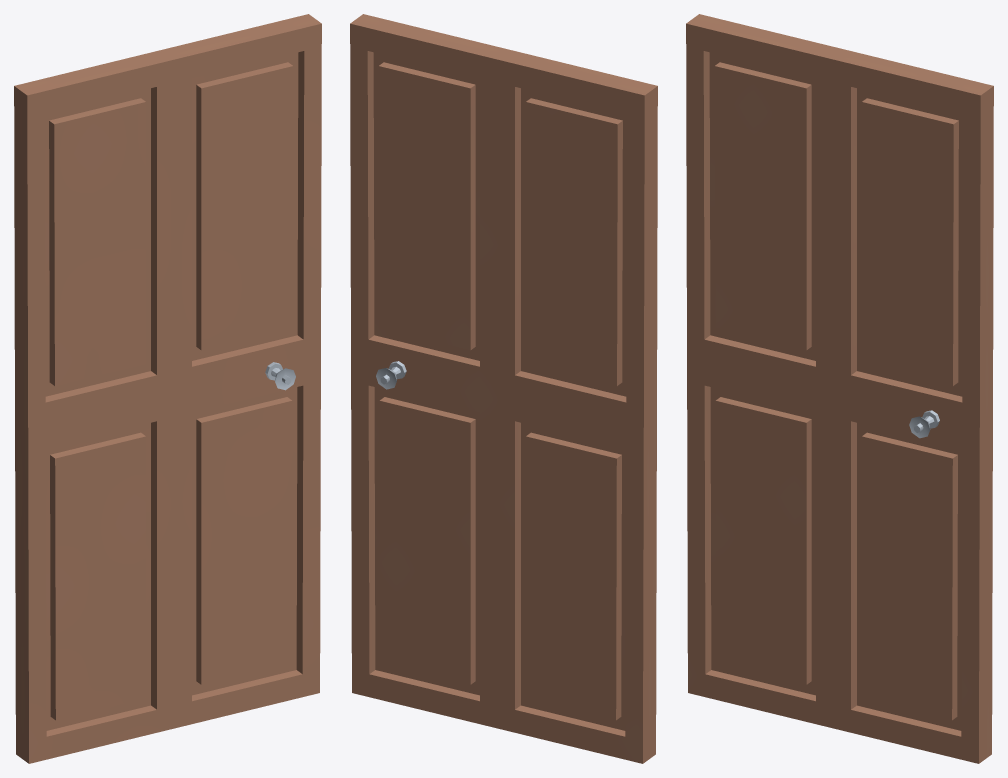
Rendered from Door_02.fbx.
3 views of the same model, side by side, from view 1: azimuth 30°, elevation 25°; view 2: azimuth 150°, elevation 25°; view 3: azimuth 330°, elevation 25° (orthographic).
Visible parts, largest first — view 1: Door_02; view 2: Door_02; view 3: Door_02.
Part boxes in pixels (x1=…): Door_02: x1=14, y1=14, x2=321, y2=763; Door_02: x1=350, y1=14, x2=657, y2=763; Door_02: x1=686, y1=14, x2=993, y2=763.
Bounding box in the file's own units: 0.9005 × 1.95 × 0.2289.
